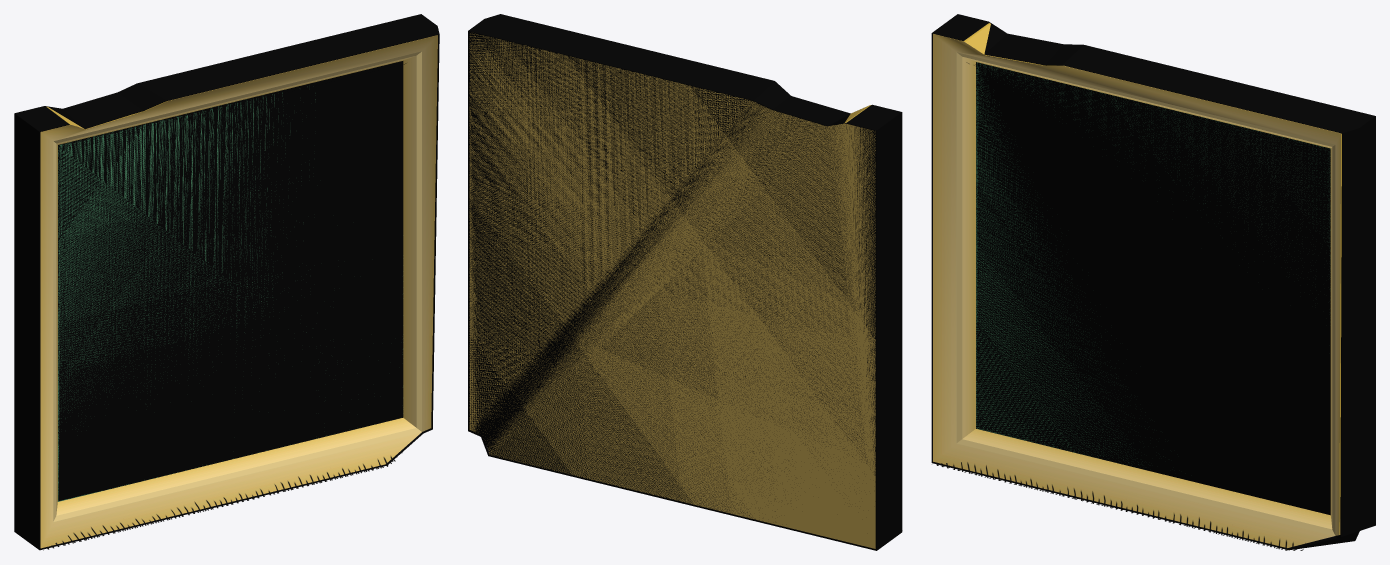
The model's file is pm-picture-frame-regular.glb.
3 views of the same model, side by side, from view 1: azimuth 30°, elevation 25°; view 2: azimuth 150°, elevation 25°; view 3: azimuth 330°, elevation 25° (orthographic). The views are drawn at different scales.
Parts seen in each view (by area): view 1: PictureFrame_Regular; view 2: PictureFrame_Regular; view 3: PictureFrame_Regular.
Boxes of the visible parts, x1=… form: PictureFrame_Regular: x1=14, y1=14, x2=439, y2=550; PictureFrame_Regular: x1=468, y1=14, x2=902, y2=550; PictureFrame_Regular: x1=931, y1=14, x2=1375, y2=550.
Bounding box in the file's own units: 1.97 × 1.94 × 0.2285.
3 materials, 2 textured.
